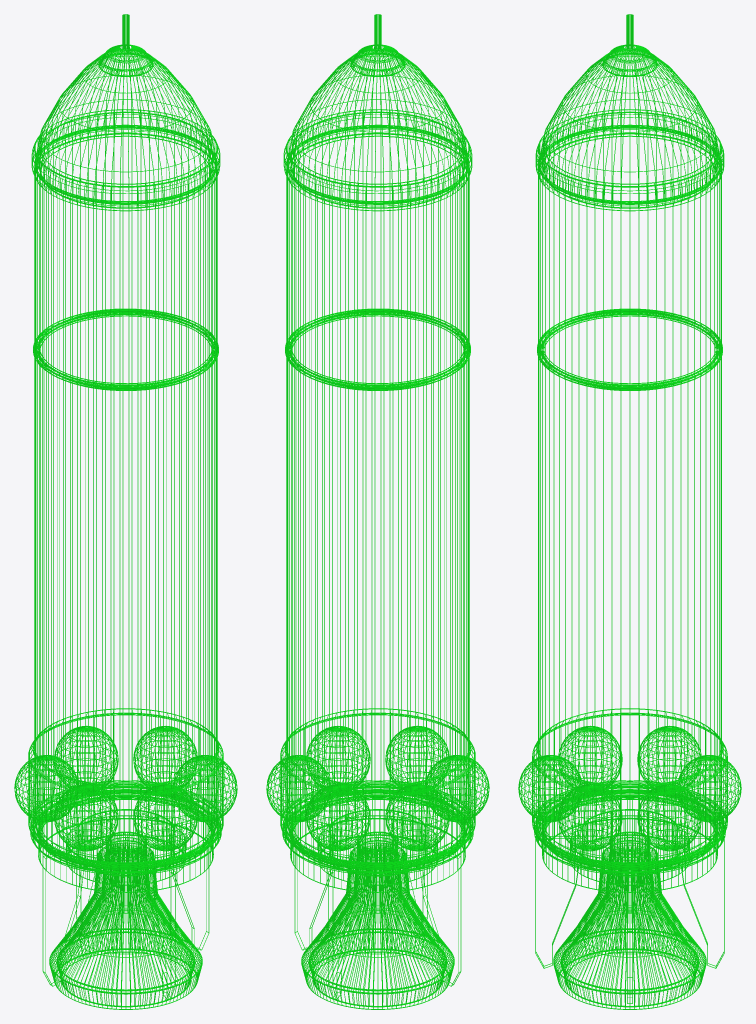
Rendered from stasis-missile-wireframe.glb.
3 renders of one model, left to right at view 1: azimuth 30°, elevation 25°; view 2: azimuth 150°, elevation 25°; view 3: azimuth 270°, elevation 25°, orthographic.
Parts seen in each view (by area): view 1: chassis technical wire, navigation-and-targeting technical wire, main-thruster technical wire, tachyon-dispersion-pods technical wire; view 2: chassis technical wire, navigation-and-targeting technical wire, main-thruster technical wire, tachyon-dispersion-pods technical wire; view 3: chassis technical wire, navigation-and-targeting technical wire, main-thruster technical wire, tachyon-dispersion-pods technical wire.
Boxes of the visible parts, left/top/right/bottom form: chassis technical wire: left=28, top=308, right=223, bottom=999; navigation-and-targeting technical wire: left=31, top=14, right=220, bottom=386; main-thruster technical wire: left=49, top=815, right=202, bottom=1009; tachyon-dispersion-pods technical wire: left=14, top=725, right=237, bottom=851; chassis technical wire: left=280, top=308, right=475, bottom=999; navigation-and-targeting technical wire: left=283, top=14, right=472, bottom=386; main-thruster technical wire: left=301, top=815, right=454, bottom=1009; tachyon-dispersion-pods technical wire: left=266, top=725, right=489, bottom=851; chassis technical wire: left=532, top=308, right=727, bottom=1003; navigation-and-targeting technical wire: left=535, top=14, right=724, bottom=385; main-thruster technical wire: left=553, top=815, right=706, bottom=1009; tachyon-dispersion-pods technical wire: left=518, top=725, right=741, bottom=851.
Bounding box in the file's own units: 1.2 × 6.31 × 1.32.
